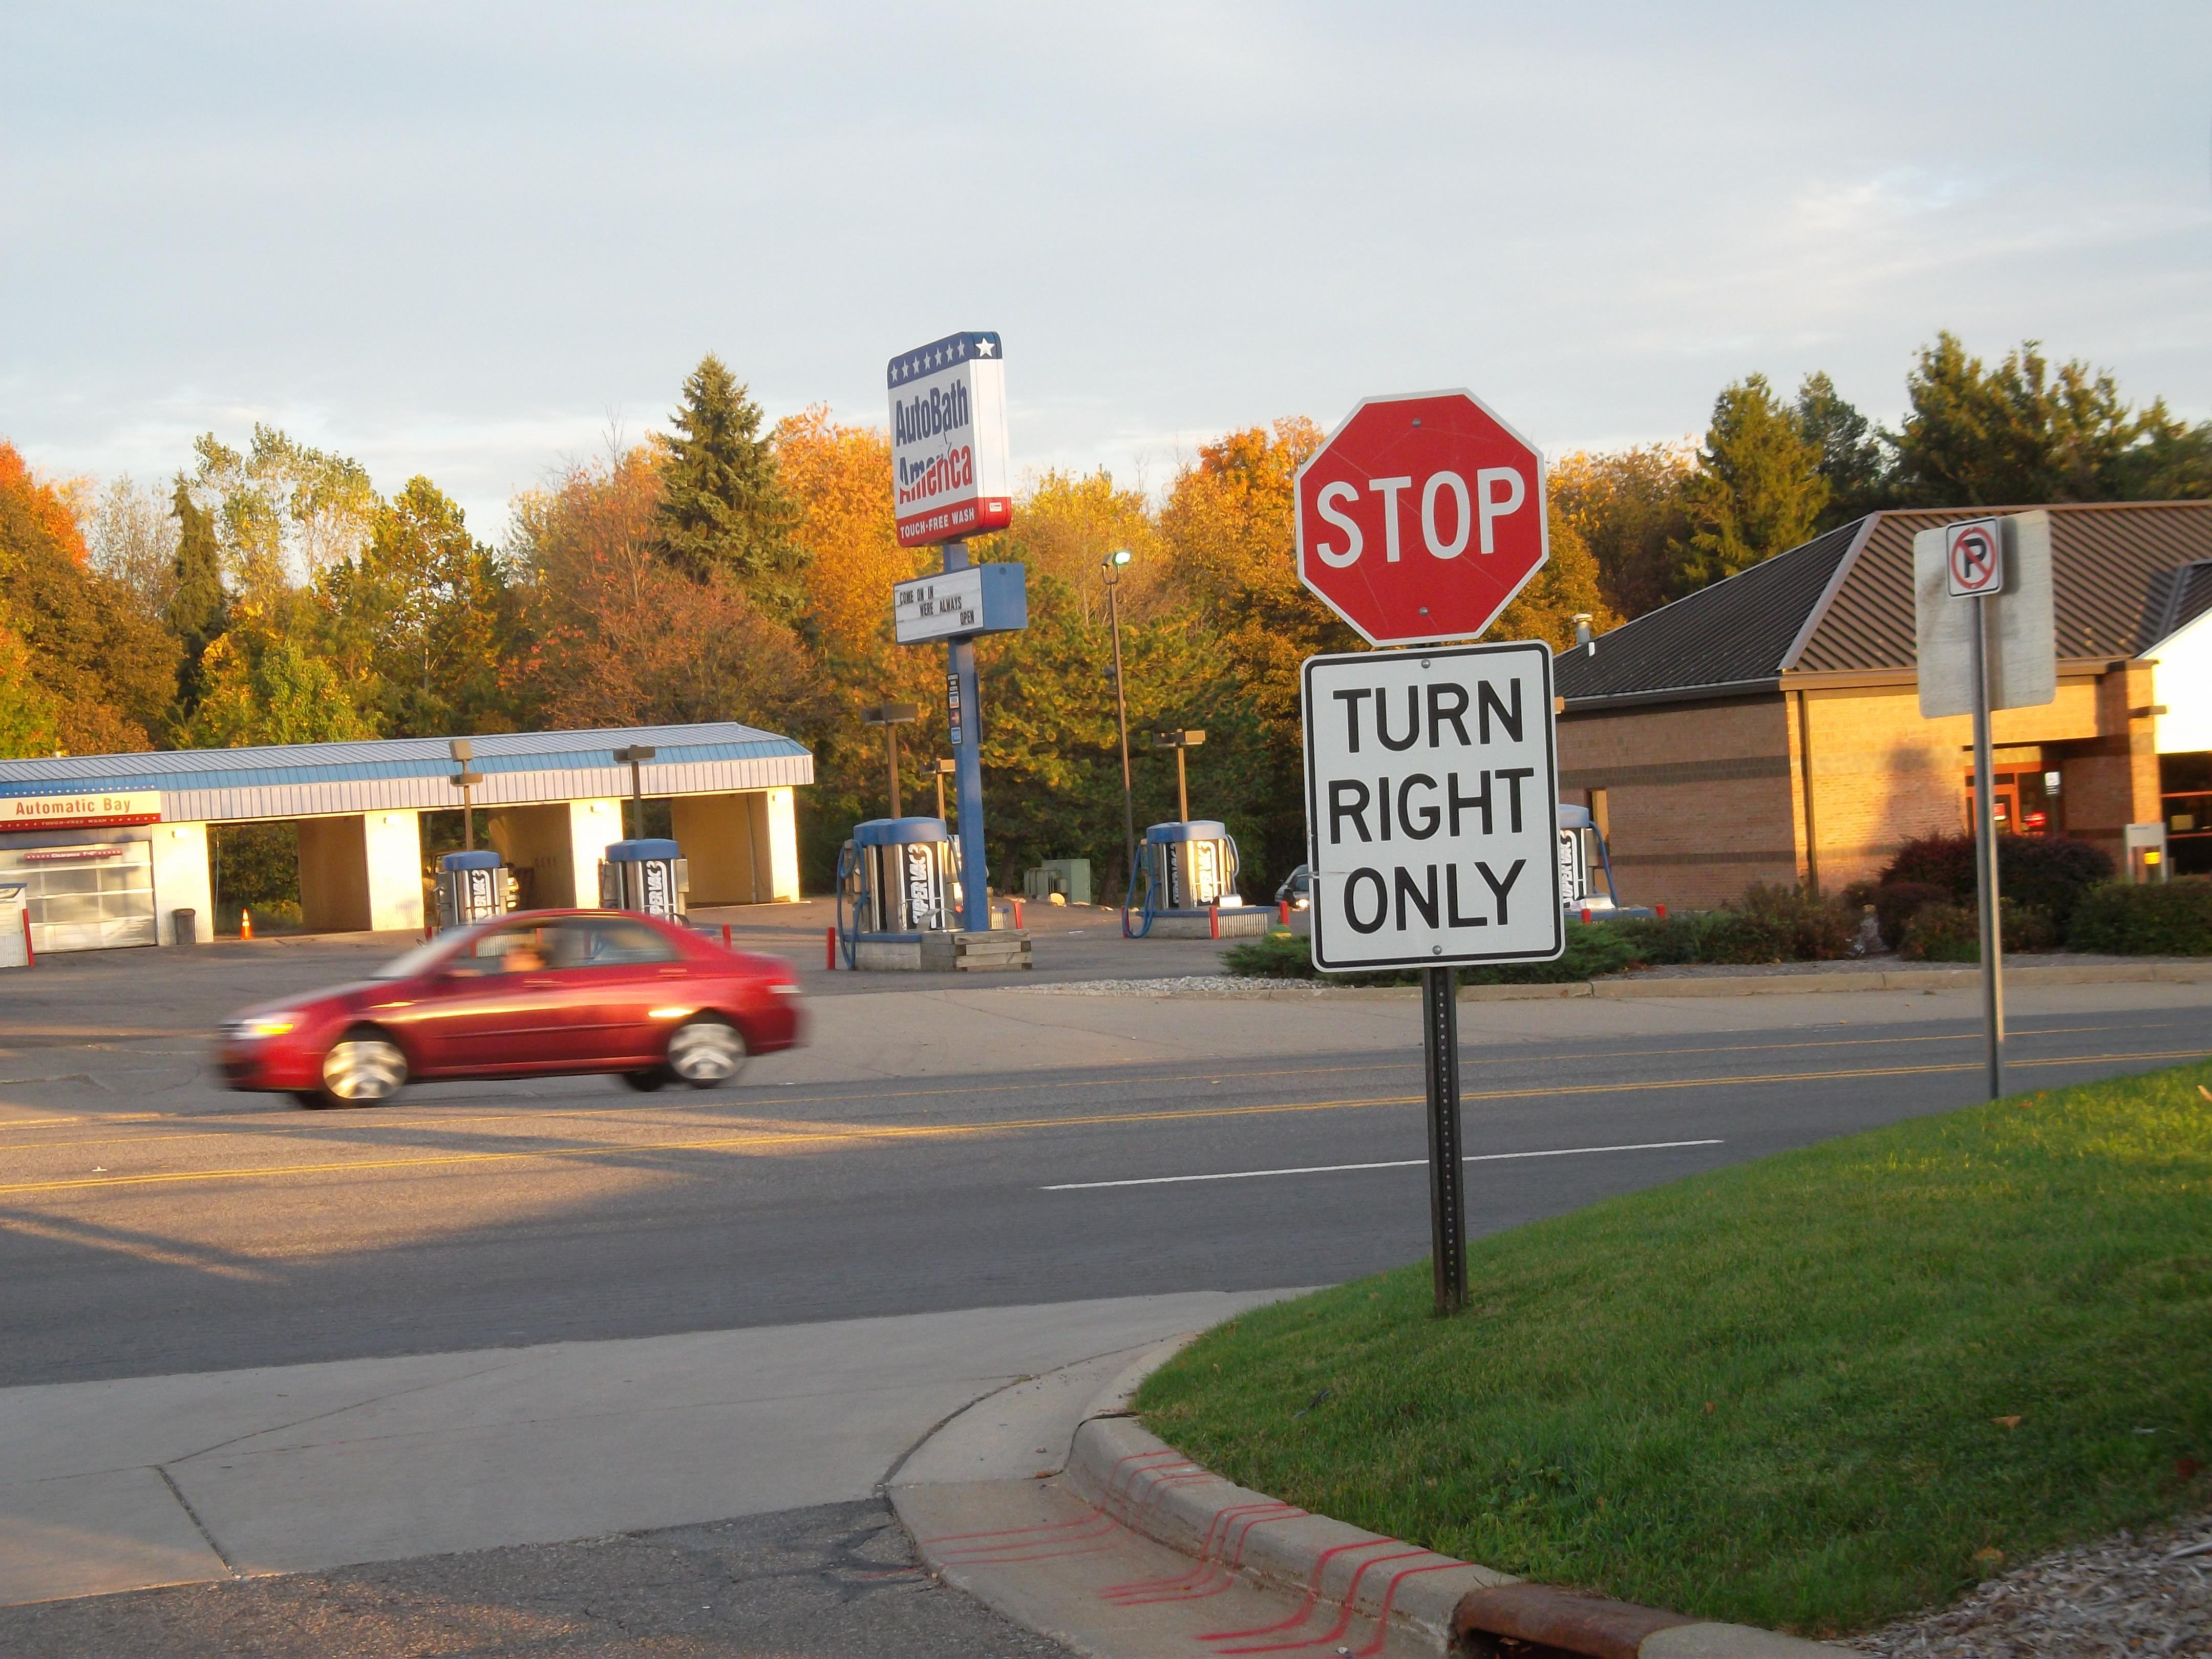regulatory: (1299, 636, 1573, 983)
stop: (1292, 387, 1548, 648)
